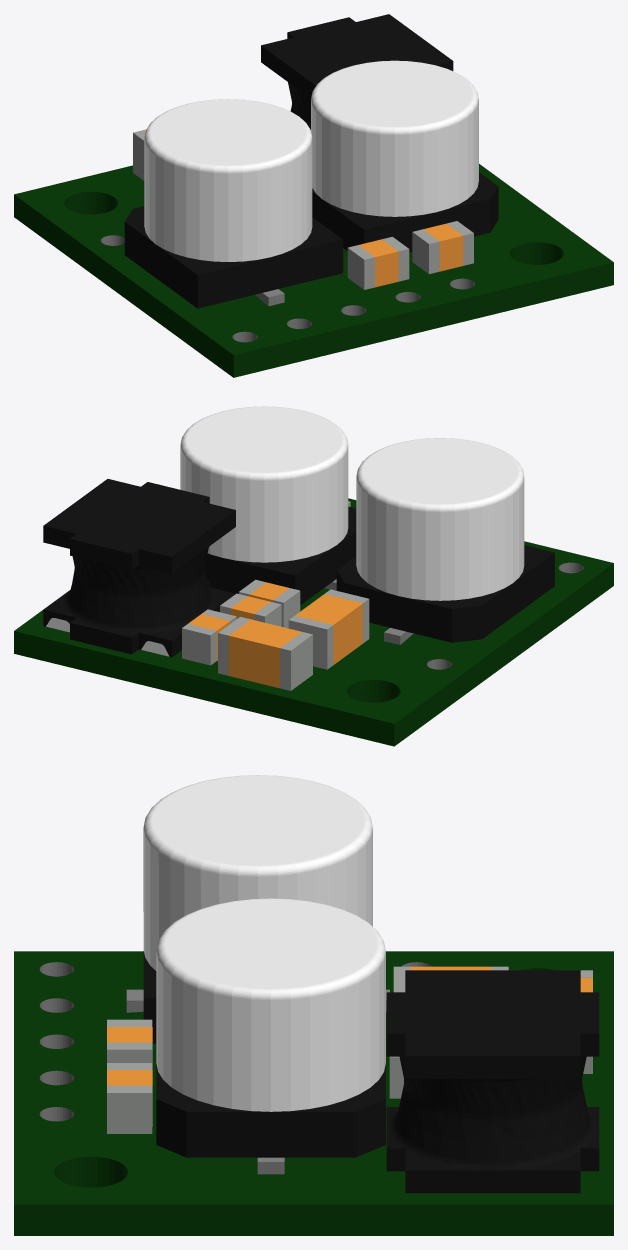
Rendered from pololu-d24v22f5.glb.
3 views of the same model, one above another, from view 1: azimuth 30°, elevation 25°; view 2: azimuth 150°, elevation 25°; view 3: azimuth 270°, elevation 25° (orthographic). The views are drawn at different scales.
Parts seen in each view (by area): view 1: pololu-d24v22f5; view 2: pololu-d24v22f5; view 3: pololu-d24v22f5.
Boxes of the visible parts, <box> form: pololu-d24v22f5: <box>14,14,613,377</box>; pololu-d24v22f5: <box>14,406,613,746</box>; pololu-d24v22f5: <box>14,775,613,1235</box>.
Size of the model in its own units: 17.78 by 8.22 by 17.78.
